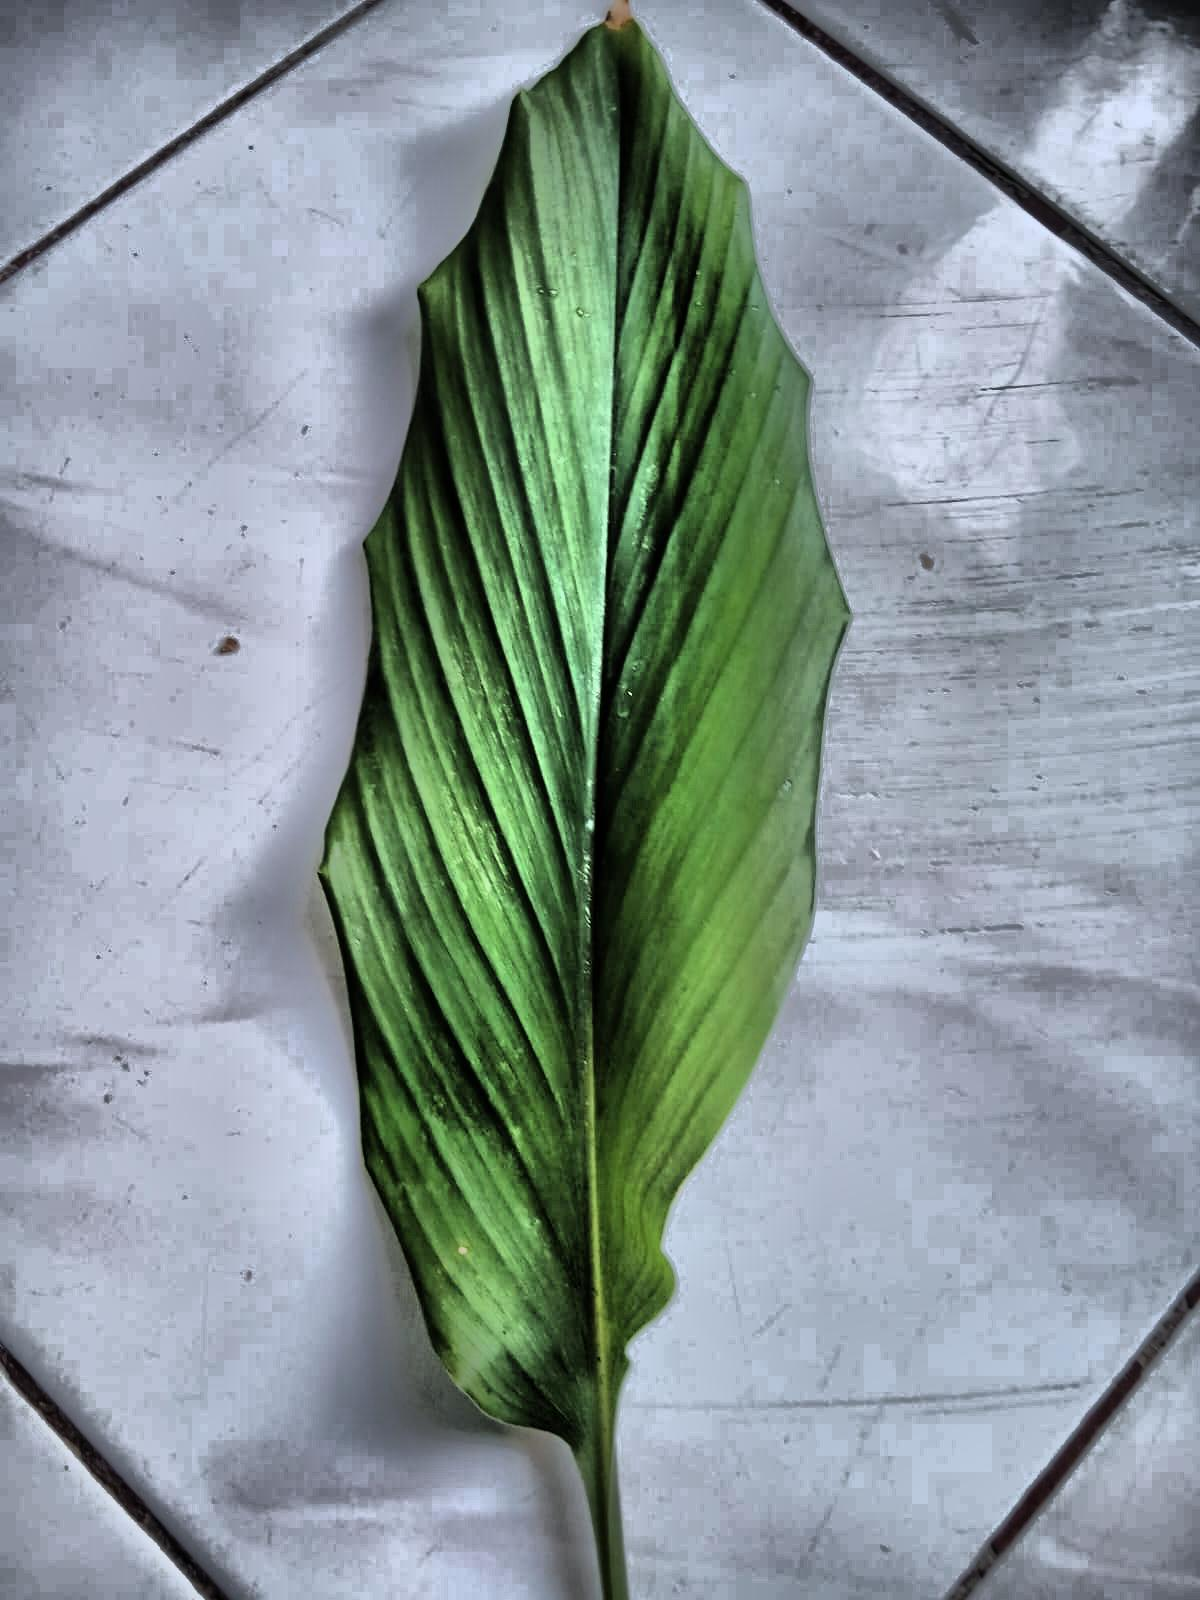daun kunyit: (320, 0, 847, 1599)
